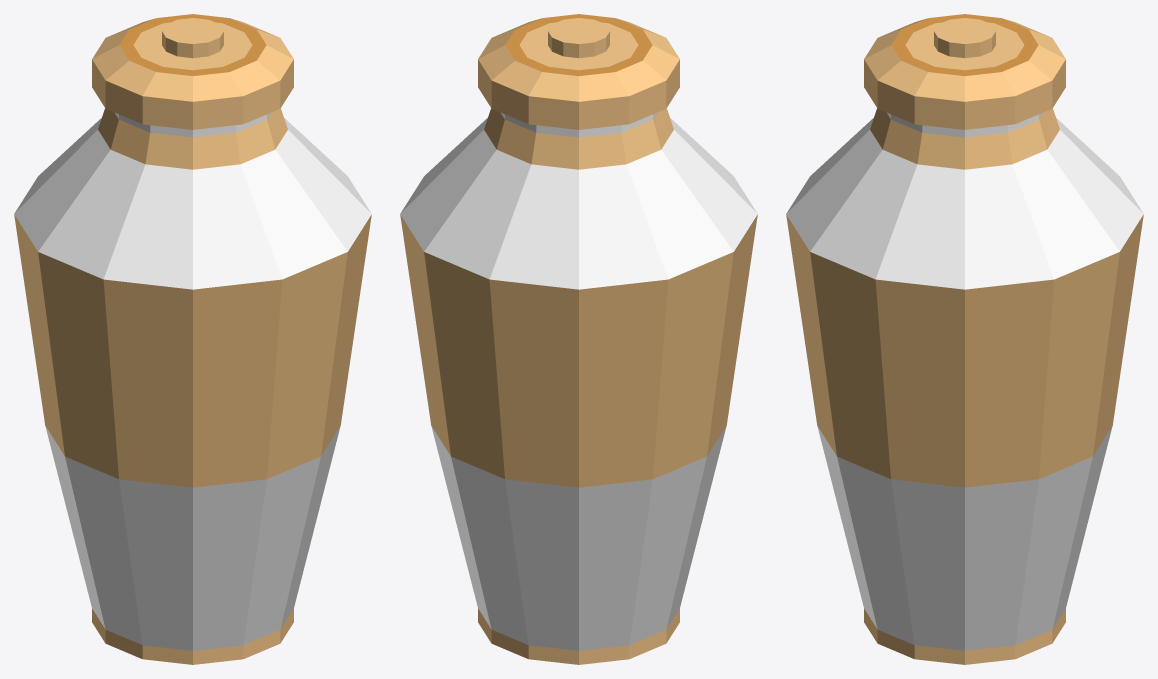
The model's file is Modelo8.gltf.
The picture shows the model from 3 angles, left to right: view 1: azimuth 30°, elevation 25°; view 2: azimuth 150°, elevation 25°; view 3: azimuth 270°, elevation 25°; orthographic projection.
Parts seen in each view (by area): view 1: Node; view 2: Node; view 3: Node.
Part boxes in pixels (x1,y1,x2,y2): Node: (14, 14, 371, 664); Node: (400, 14, 757, 664); Node: (786, 14, 1143, 664).
Size of the model in its own units: 0.2303 by 0.42 by 0.2303.
